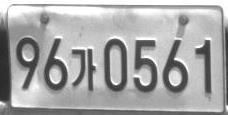0: (103, 37, 128, 92)
1: (192, 39, 218, 93)
5: (133, 39, 158, 93)
6: (162, 39, 188, 93), (43, 38, 68, 90)
9: (15, 36, 40, 90)
가: (71, 47, 96, 91)
